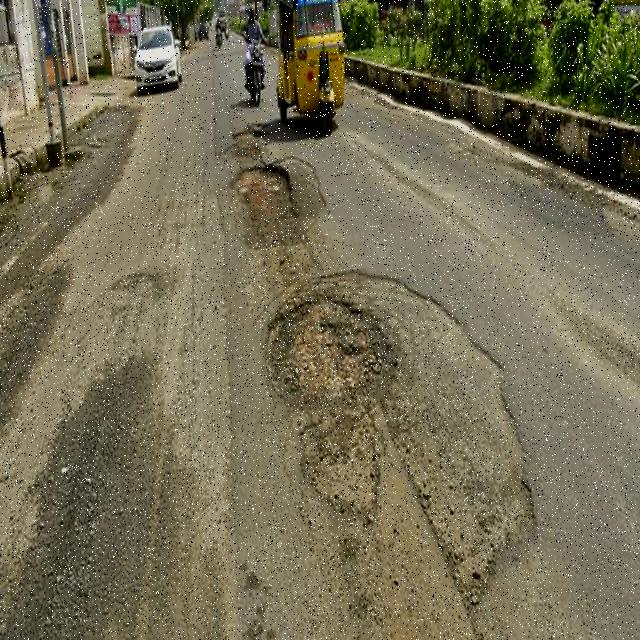pothole: (267, 276, 530, 607), (274, 301, 394, 424), (234, 167, 292, 219)
